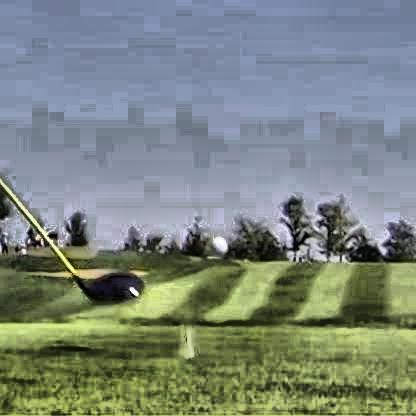golfball: (206, 234, 224, 256)
